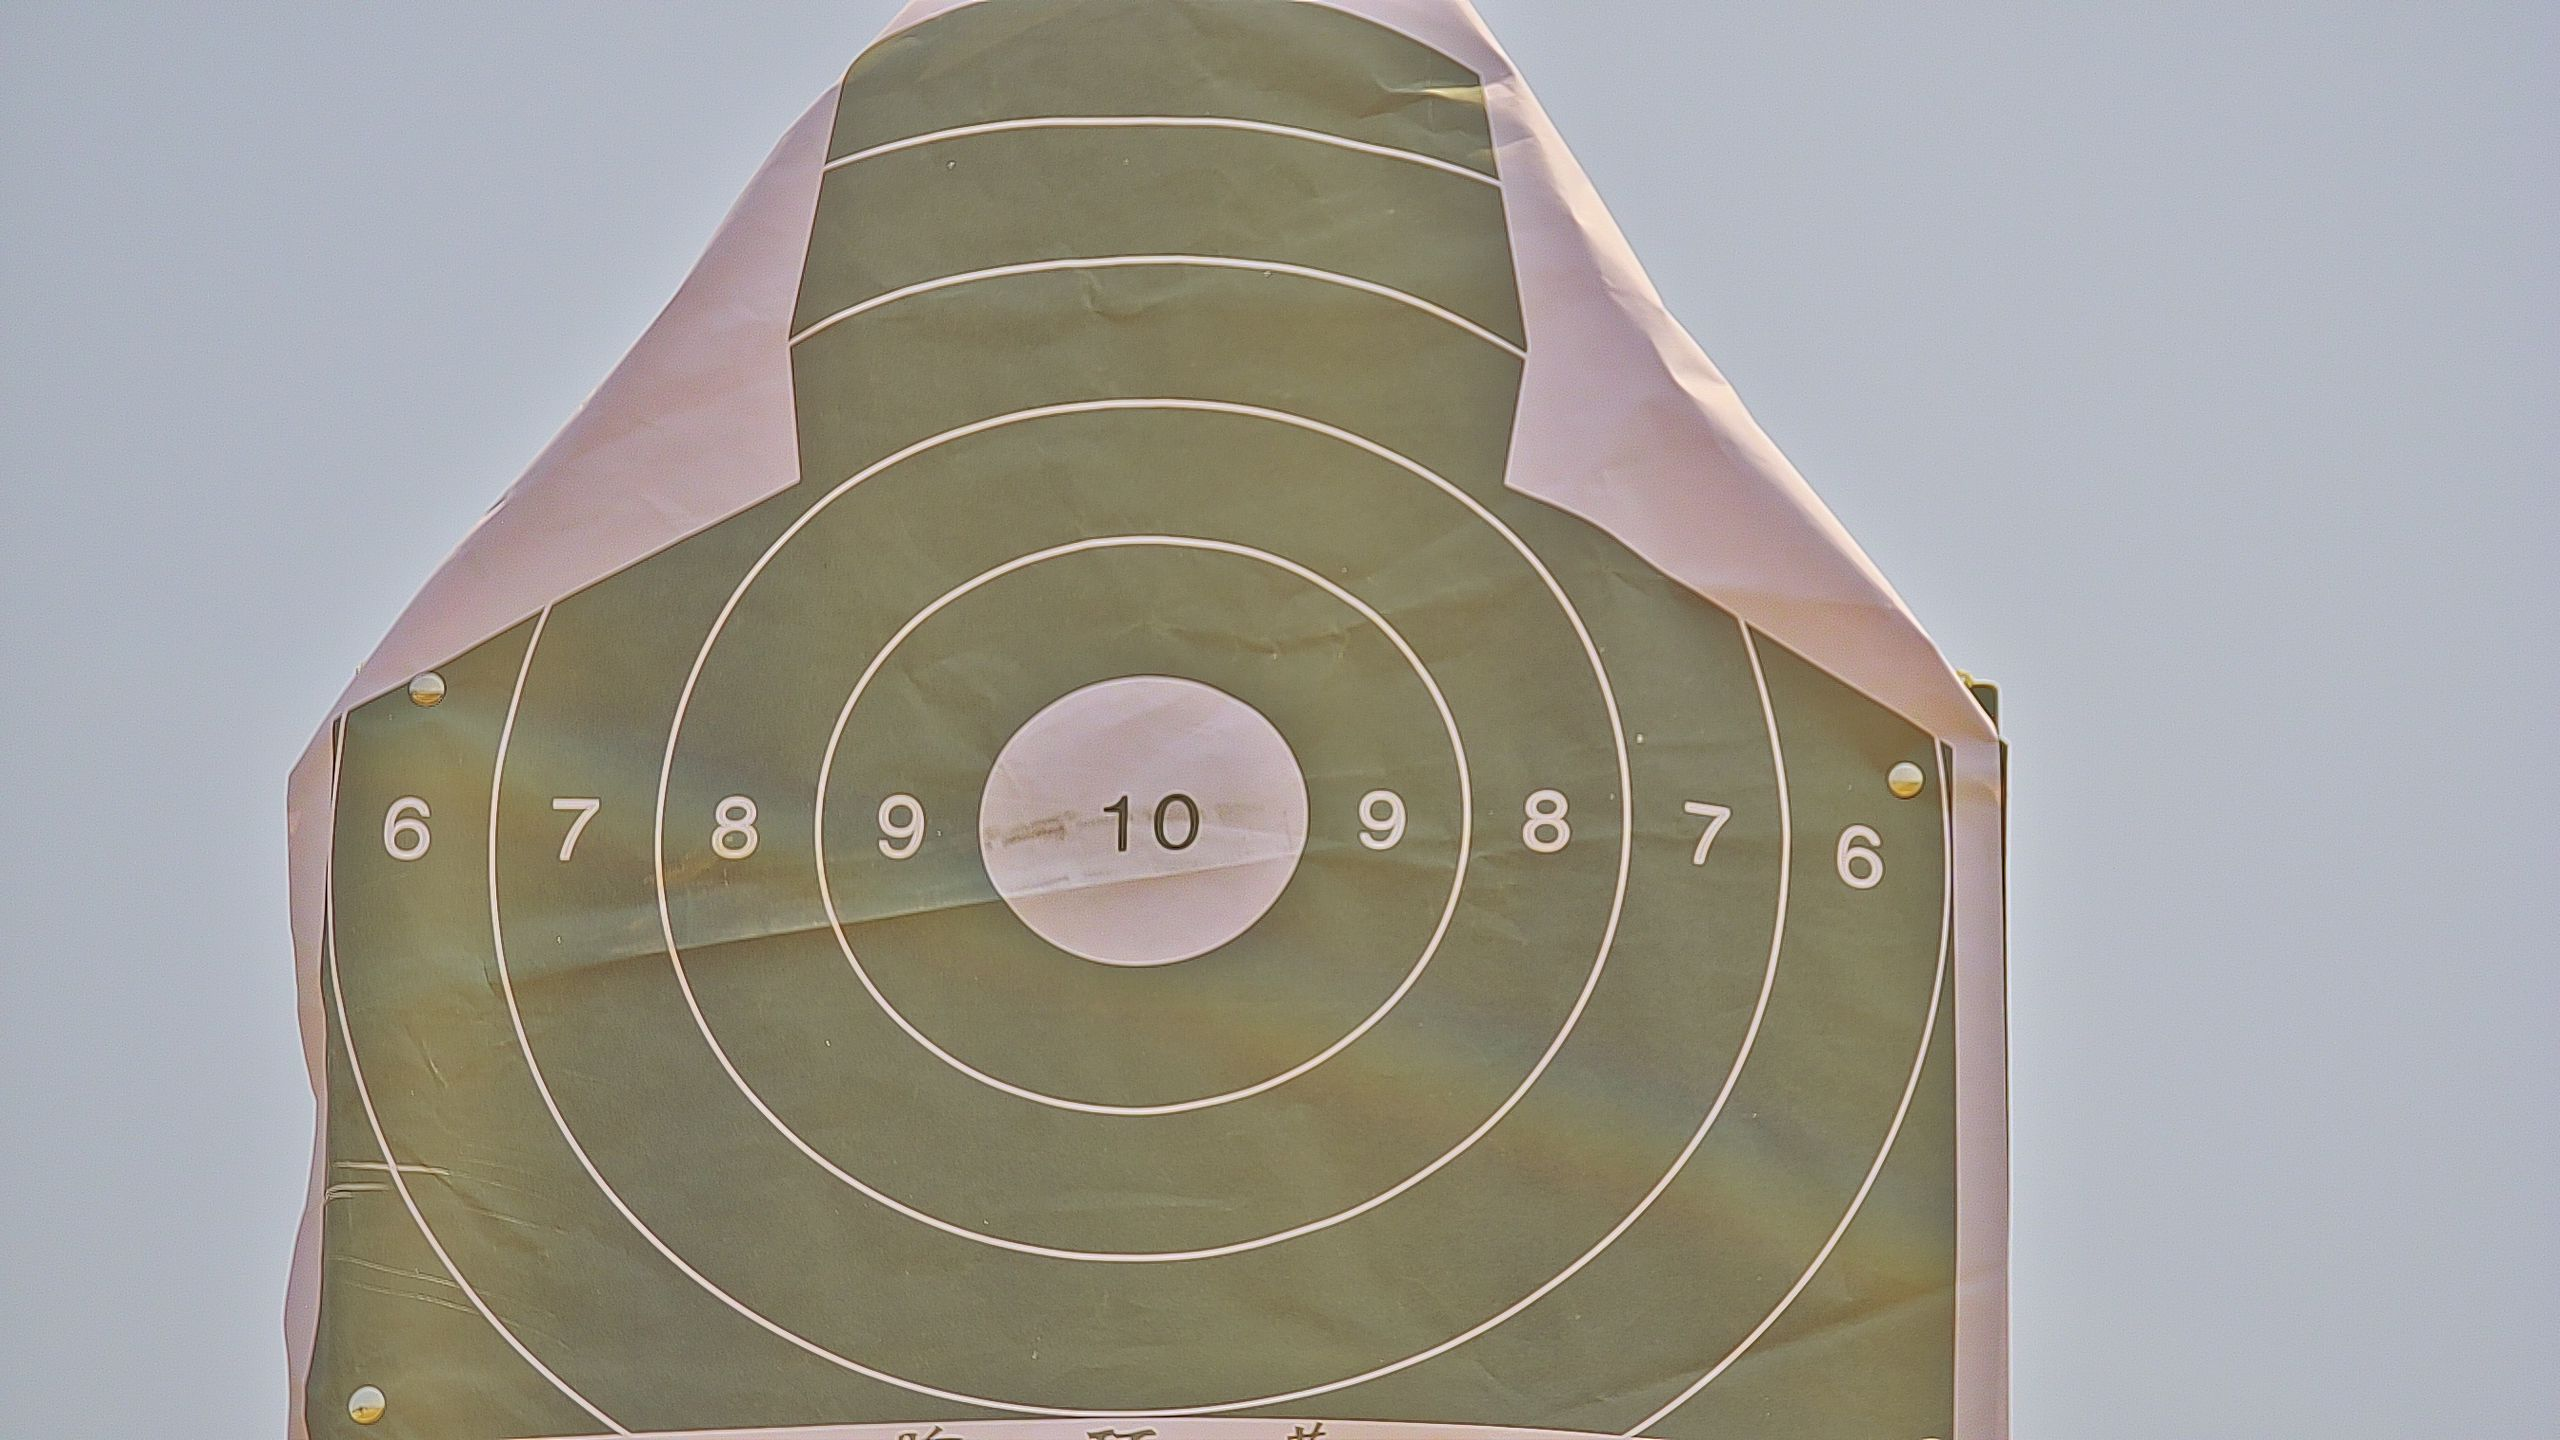kernel: (1139, 823, 1143, 826)
target: (315, 16, 1953, 1440)
ten: (976, 672, 1310, 964)
